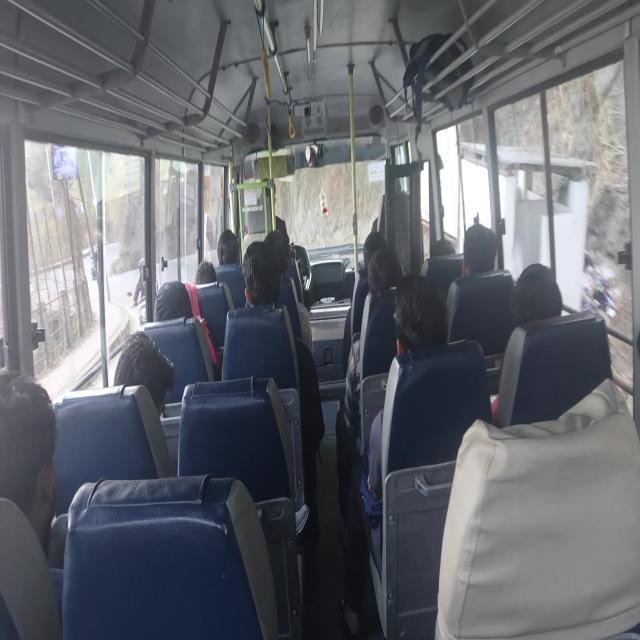person: (338, 272, 449, 636), (240, 239, 325, 530), (336, 245, 404, 520), (366, 274, 448, 500), (491, 262, 563, 421), (0, 371, 59, 565), (341, 231, 386, 374), (264, 229, 313, 354), (446, 222, 497, 338), (113, 330, 176, 419), (153, 260, 217, 321), (510, 262, 562, 327), (460, 222, 497, 276), (130, 258, 157, 308), (217, 228, 240, 265), (194, 260, 217, 285)
